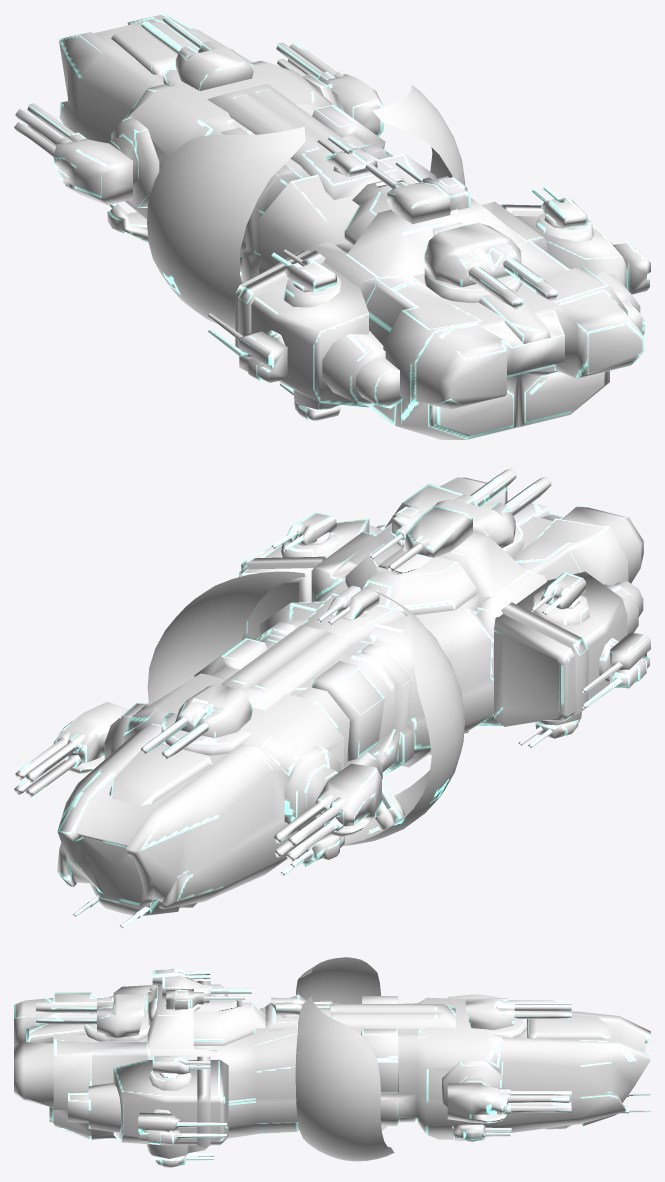
The model's file is cuirasse_v3.glb.
3 renders of one model, top to bottom at view 1: azimuth 30°, elevation 25°; view 2: azimuth 150°, elevation 25°; view 3: azimuth 270°, elevation 25°, orthographic. The views are drawn at different scales.
Parts seen in each view (by area): view 1: cuirasse_v3; view 2: cuirasse_v3; view 3: cuirasse_v3.
Boxes of the visible parts, box(x1,y1,x2,y2) form: cuirasse_v3: box(14, 14, 650, 439); cuirasse_v3: box(14, 468, 650, 928); cuirasse_v3: box(14, 957, 650, 1167).
Size of the model in its own units: 1.31 by 0.7147 by 2.6.
1 material, 1 textured.
